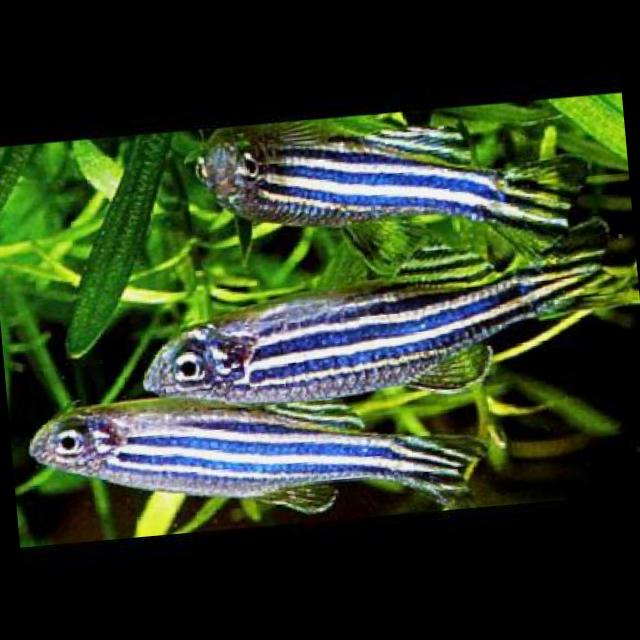ZebraFish: (130, 230, 624, 422), (25, 370, 482, 548), (190, 98, 592, 274)
